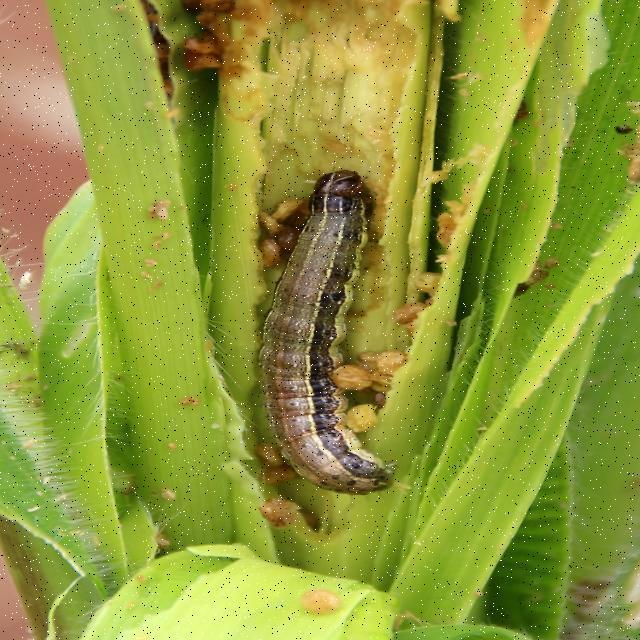army worm: (258, 154, 418, 514)
